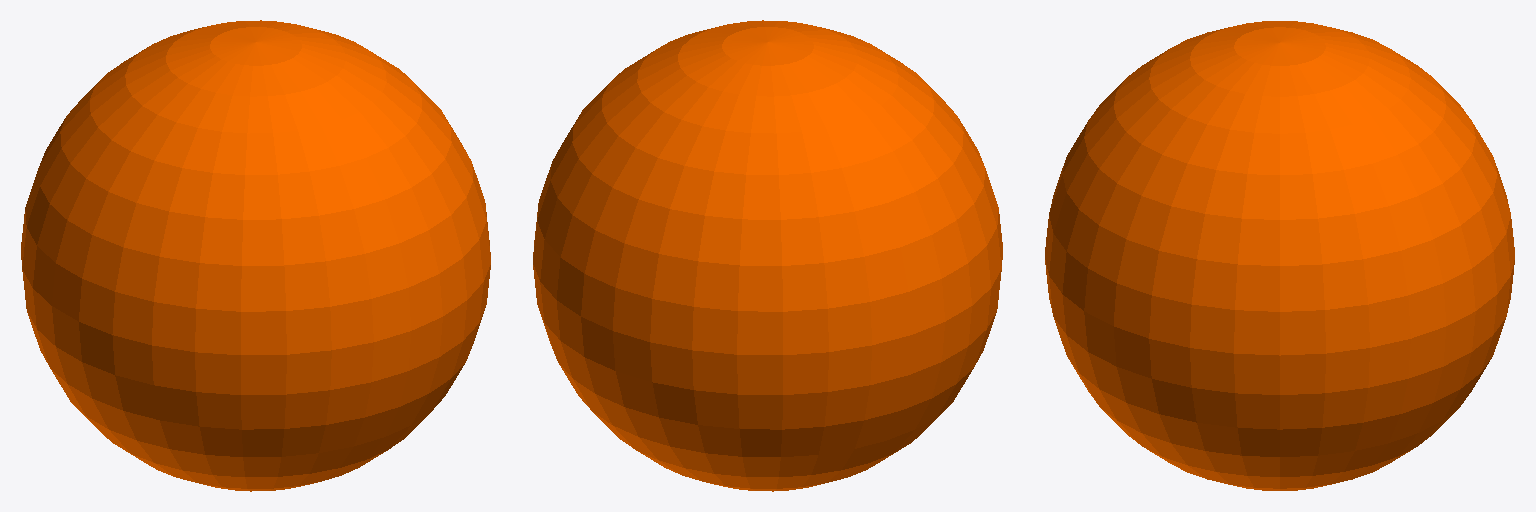
robot.urdf — workspace_sphere:
<?xml version="1.0"?>
<robot name="workspace_sphere">
  <link name="sphere_link">
    <inertial>
      <mass value="0.001"/>
      <origin xyz="0 0 0" rpy="0 0 0"/>
      <inertia ixx="0.00001" ixy="0.0" ixz="0.0" iyy="0.00001" iyz="0.0" izz="0.00001"/>
    </inertial>
    <visual>
      <origin xyz="0 0 0" rpy="0 0 0"/>
      <geometry>
        <!-- R_max approx 322 mm = 0.322 m -->
        <sphere radius="0.322"/>
      </geometry>
      <material name="orange_translucent">
        <color rgba="1.0 0.45 0.0 0.12"/>
      </material>
    </visual>
  </link>
  <gazebo reference="sphere_link">
    <material>Workspace/TranslucentOrange</material>
    <gravity>0</gravity>
    <selfCollide>false</selfCollide>
  </gazebo>
</robot>

--- Render facts (derived) ---
The picture shows the robot from 3 angles, left to right: view 1: azimuth 30°, elevation 25°; view 2: azimuth 150°, elevation 25°; view 3: azimuth 270°, elevation 25°; orthographic projection.
Robot: workspace_sphere — 1 links, 0 joints (none); root link sphere_link; default pose: all joints at 0.
Links seen in each view (by area): view 1: sphere_link; view 2: sphere_link; view 3: sphere_link.
Boxes of the visible links, left/top/right/bottom form: sphere_link: left=21, top=20, right=490, bottom=491; sphere_link: left=533, top=20, right=1002, bottom=491; sphere_link: left=1045, top=21, right=1514, bottom=490.
Bounding box of the posed robot: 0.644 × 0.644 × 0.644 m (x, y, z).
Geometry: primitives only (box / cylinder / sphere), no mesh files.
